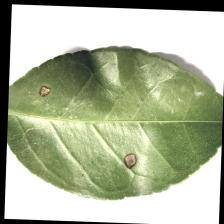canker: (35, 79, 141, 167)
